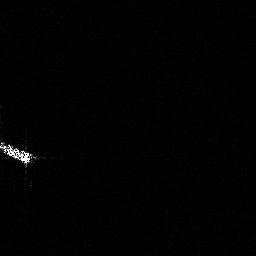ship: (1, 137, 37, 167)
